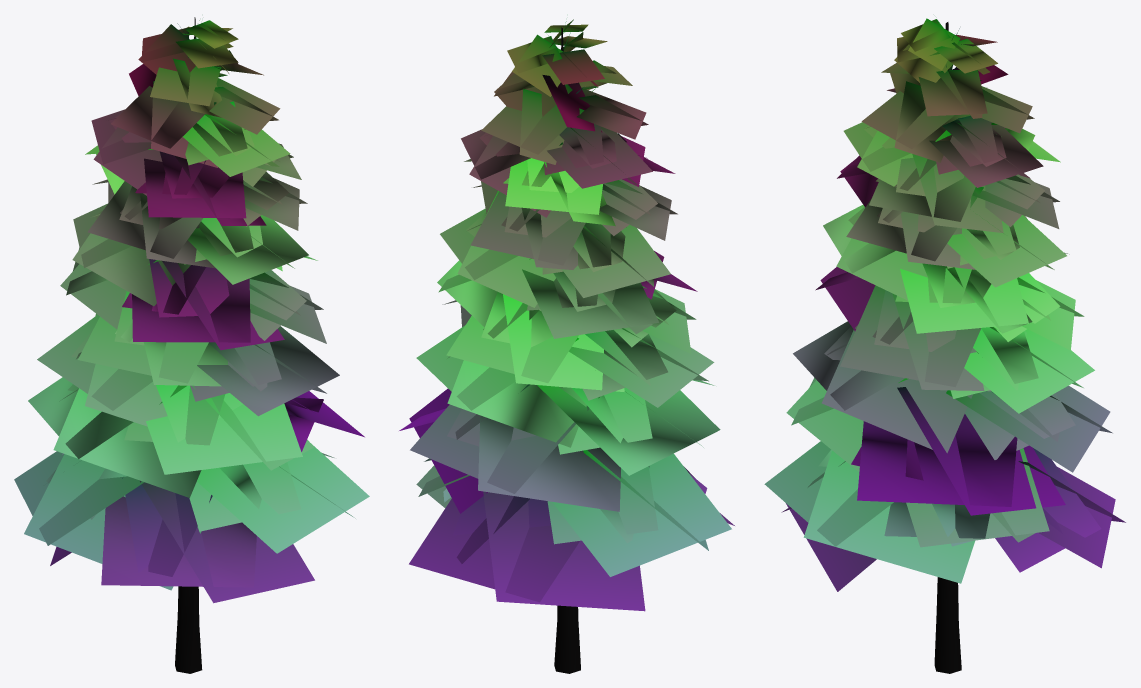
The model's file is Pino.fbx.
3 views of the same model, side by side, from view 1: azimuth 30°, elevation 25°; view 2: azimuth 150°, elevation 25°; view 3: azimuth 270°, elevation 25° (orthographic).
Visible parts, largest first — view 1: Pino; view 2: Pino; view 3: Pino.
Part boxes in pixels (x1=…): Pino: x1=14, y1=17, x2=369, y2=673; Pino: x1=399, y1=19, x2=734, y2=673; Pino: x1=764, y1=18, x2=1125, y2=673.
Size of the model in its own units: 3199 by 6612 by 3302.
